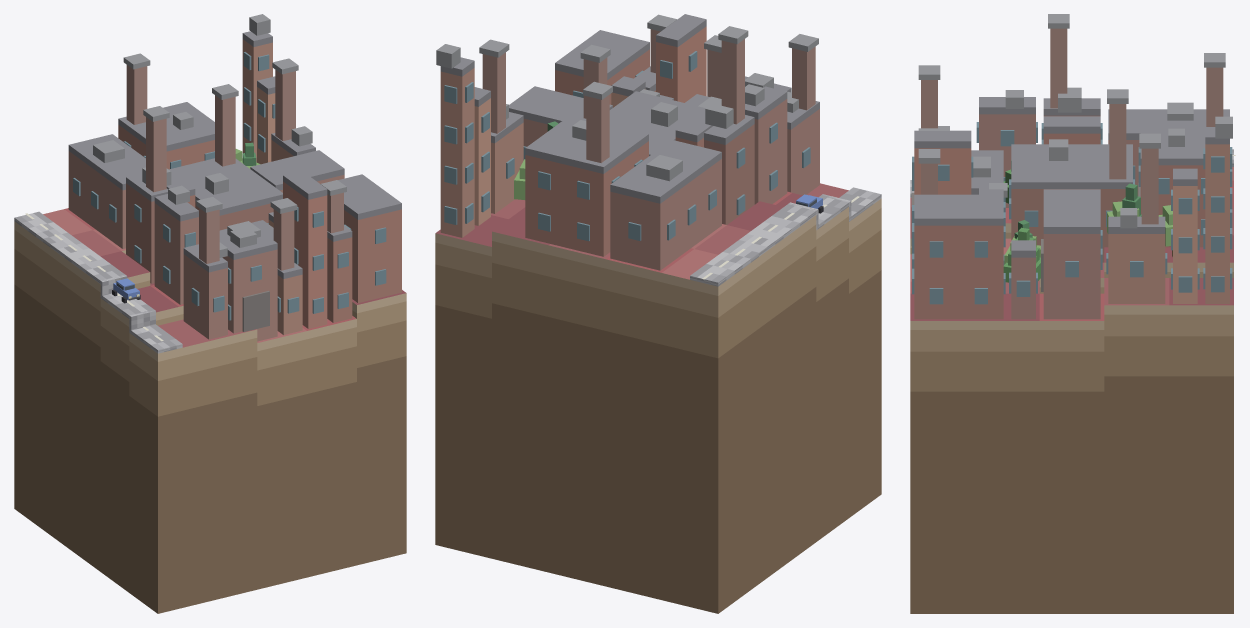
The model's file is block_26_permeable_10.glb.
3 renders of one model, left to right at view 1: azimuth 30°, elevation 25°; view 2: azimuth 150°, elevation 25°; view 3: azimuth 270°, elevation 25°, orthographic. The views are drawn at different scales.
Visible parts, largest first — view 1: Patch_UpperRight_b26_PP, Factories_UpperRight_b26_PP, Roads_UpperRight_b26_PP; view 2: Patch_UpperRight_b26_PP, Factories_UpperRight_b26_PP, Roads_UpperRight_b26_PP; view 3: Patch_UpperRight_b26_PP, Factories_UpperRight_b26_PP, FTree_13_PP.
Part boxes in pixels (x1=…): Patch_UpperRight_b26_PP: x1=14, y1=208, x2=406, y2=613; Factories_UpperRight_b26_PP: x1=68, y1=14, x2=401, y2=341; Roads_UpperRight_b26_PP: x1=14, y1=211, x2=182, y2=353; Patch_UpperRight_b26_PP: x1=435, y1=183, x2=881, y2=613; Factories_UpperRight_b26_PP: x1=436, y1=14, x2=819, y2=270; Roads_UpperRight_b26_PP: x1=690, y1=187, x2=881, y2=286; Patch_UpperRight_b26_PP: x1=910, y1=167, x2=1233, y2=613; Factories_UpperRight_b26_PP: x1=911, y1=14, x2=1232, y2=319; FTree_13_PP: x1=1003, y1=227, x2=1040, y2=282.
Size of the model in its own units: 9.5 by 16.01 by 9.55.
